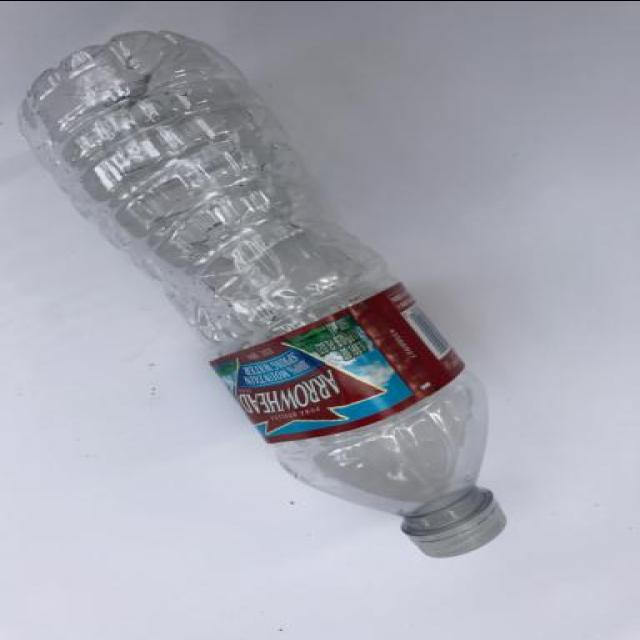PET: (16, 24, 516, 564)
